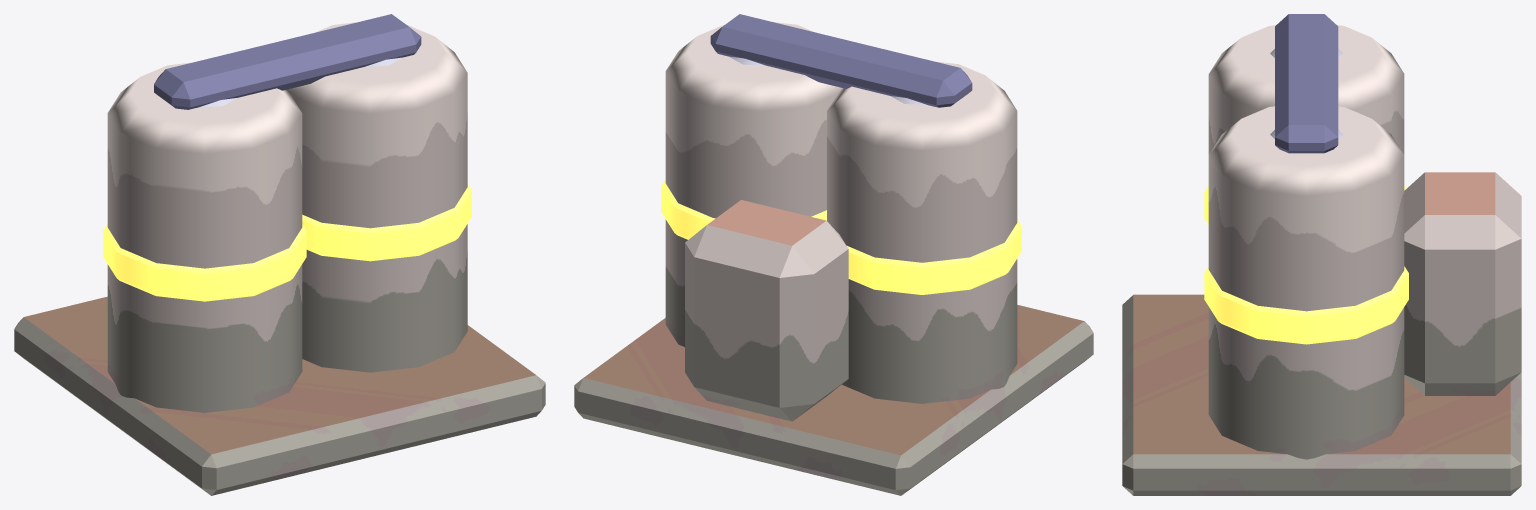
Rendered from R4X_Battery_LOD1.glb.
3 renders of one model, left to right at view 1: azimuth 30°, elevation 25°; view 2: azimuth 150°, elevation 25°; view 3: azimuth 270°, elevation 25°, orthographic. The views are drawn at different scales.
Visible parts, largest first — view 1: R4X_Battery_LOD1; view 2: R4X_Battery_LOD1; view 3: R4X_Battery_LOD1.
Boxes of the visible parts, <box> form: R4X_Battery_LOD1: <box>14,14,545,495</box>; R4X_Battery_LOD1: <box>574,14,1093,495</box>; R4X_Battery_LOD1: <box>1122,14,1521,495</box>.
Size of the model in its own units: 0.52 by 0.4986 by 0.52.
5 materials, 4 textured.
